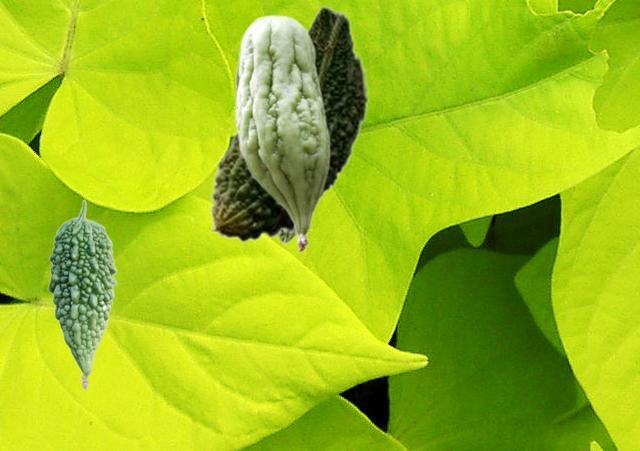ampalaya: (209, 5, 369, 242), (234, 14, 330, 251), (47, 199, 116, 390)
